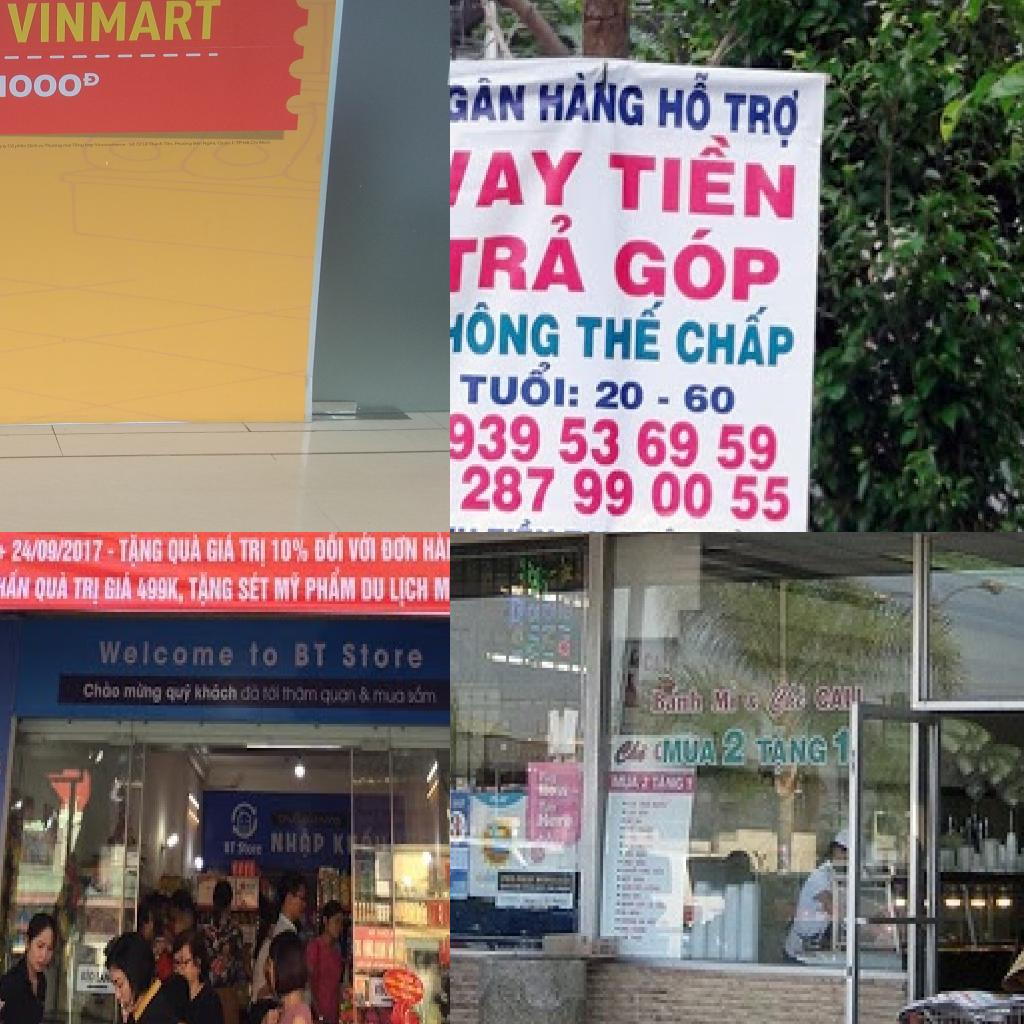text: (450, 404, 782, 476), (450, 461, 794, 528), (606, 126, 800, 228), (608, 220, 784, 309), (450, 207, 590, 299), (0, 0, 226, 44), (450, 145, 590, 215), (672, 304, 800, 374), (450, 294, 564, 364), (536, 70, 650, 133), (456, 357, 582, 414), (574, 297, 668, 367), (722, 85, 808, 155), (97, 636, 237, 673), (450, 75, 530, 127), (656, 70, 714, 138), (752, 732, 833, 780), (592, 377, 674, 419), (0, 70, 107, 102), (339, 639, 429, 673), (9, 537, 109, 567), (658, 735, 722, 774), (682, 379, 742, 419), (303, 567, 359, 609), (185, 569, 237, 612), (269, 825, 327, 863), (650, 683, 708, 720), (135, 572, 189, 609), (764, 680, 810, 723), (115, 532, 165, 569), (31, 570, 73, 610), (387, 575, 431, 612), (379, 532, 421, 567), (191, 679, 241, 708), (720, 726, 752, 771), (167, 532, 205, 569), (614, 735, 656, 768), (237, 569, 273, 607), (291, 639, 331, 673), (271, 534, 313, 566), (245, 636, 281, 673), (0, 566, 33, 606), (103, 569, 137, 607), (811, 683, 849, 717), (71, 572, 103, 612), (121, 679, 165, 708), (205, 532, 239, 569), (830, 722, 855, 772), (311, 532, 347, 566), (486, 516, 560, 532), (237, 535, 269, 572), (345, 532, 379, 566), (708, 686, 742, 720), (405, 682, 441, 714), (273, 569, 303, 607), (81, 676, 123, 703), (419, 532, 450, 566), (281, 681, 319, 708), (317, 686, 359, 710), (371, 681, 407, 708), (359, 574, 389, 606), (163, 681, 197, 708), (650, 774, 689, 796), (618, 523, 704, 532), (259, 679, 285, 708), (608, 771, 642, 793), (450, 811, 467, 844), (237, 839, 267, 857), (433, 574, 450, 604), (741, 692, 761, 717), (241, 682, 261, 706), (331, 831, 347, 860), (223, 839, 239, 860), (639, 774, 653, 796), (686, 774, 697, 796)
